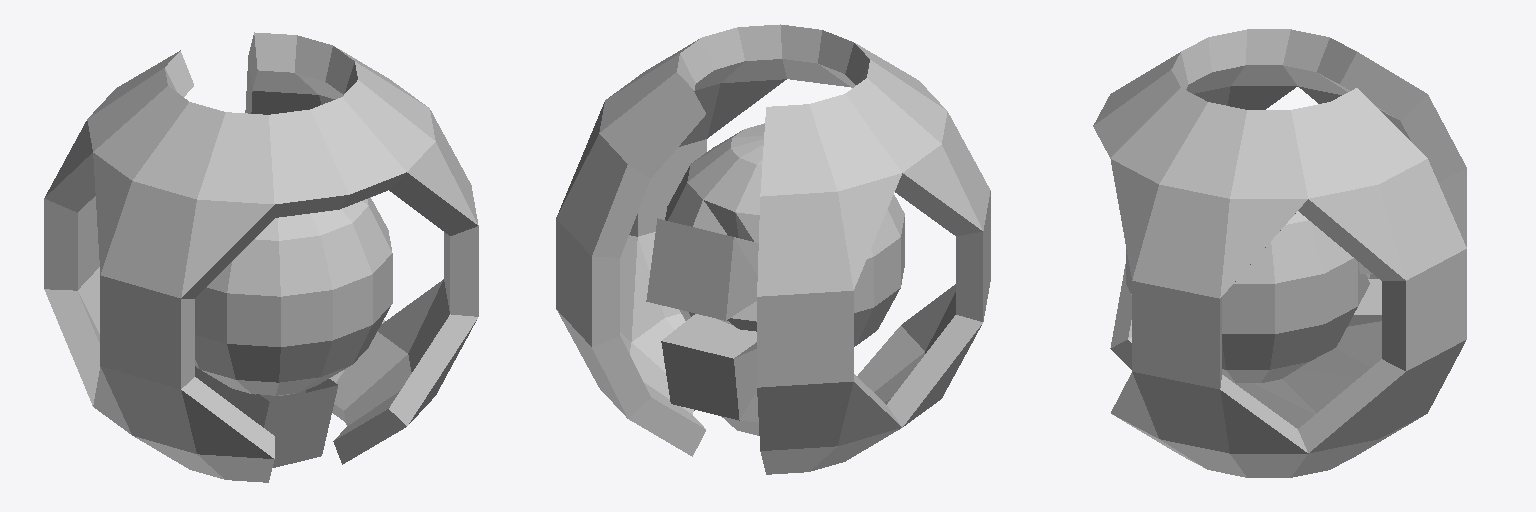
The model's file is 343skel.obj.
3 views of the same model, side by side, from view 1: azimuth 30°, elevation 25°; view 2: azimuth 150°, elevation 25°; view 3: azimuth 270°, elevation 25° (orthographic).
Parts seen in each view (by area): view 1: Esfera; view 2: Esfera; view 3: Esfera.
Part boxes in pixels (x1,y1,x2,y2): Esfera: (44, 32, 478, 482); Esfera: (556, 24, 990, 474); Esfera: (1093, 29, 1466, 477).
Bounding box in the file's own units: 1.9 × 1.82 × 1.66.